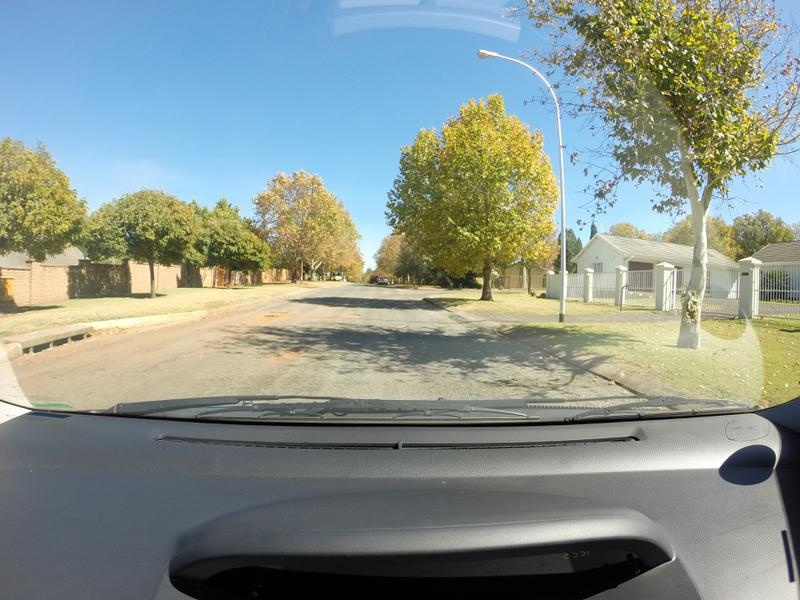pothole: (260, 311, 277, 319)
